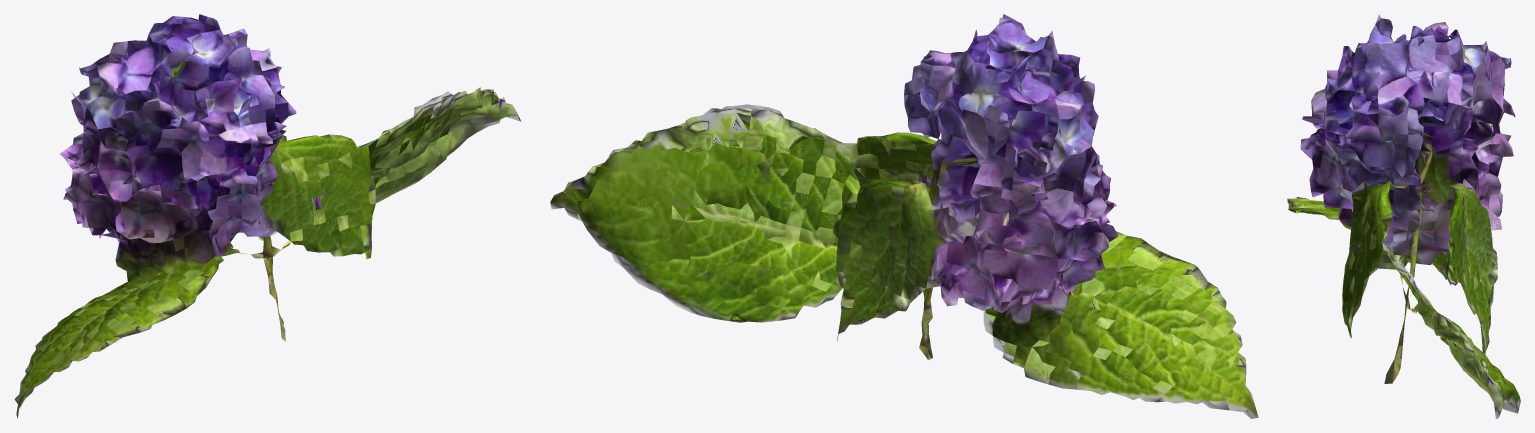
The picture shows the model from 3 angles, left to right: view 1: azimuth 30°, elevation 25°; view 2: azimuth 150°, elevation 25°; view 3: azimuth 270°, elevation 25°; orthographic projection. The views are drawn at different scales.
Parts seen in each view (by area): view 1: 8fa5ec6b; view 2: 8fa5ec6b; view 3: 8fa5ec6b.
Boxes of the visible parts, box(x1,y1,x2,y2) form: 8fa5ec6b: box(14, 14, 521, 418); 8fa5ec6b: box(550, 14, 1258, 418); 8fa5ec6b: box(1287, 14, 1520, 418).
Size of the model in its own units: 0.2366 by 0.1277 by 0.0846.
1 material, 1 textured.
